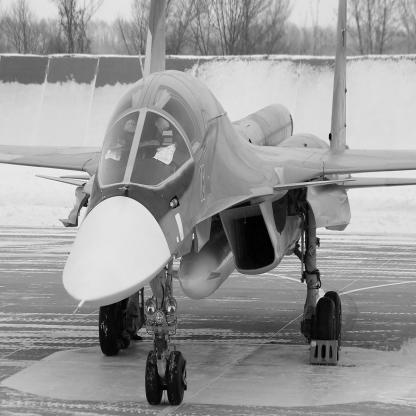Su34: (1, 2, 416, 407)
